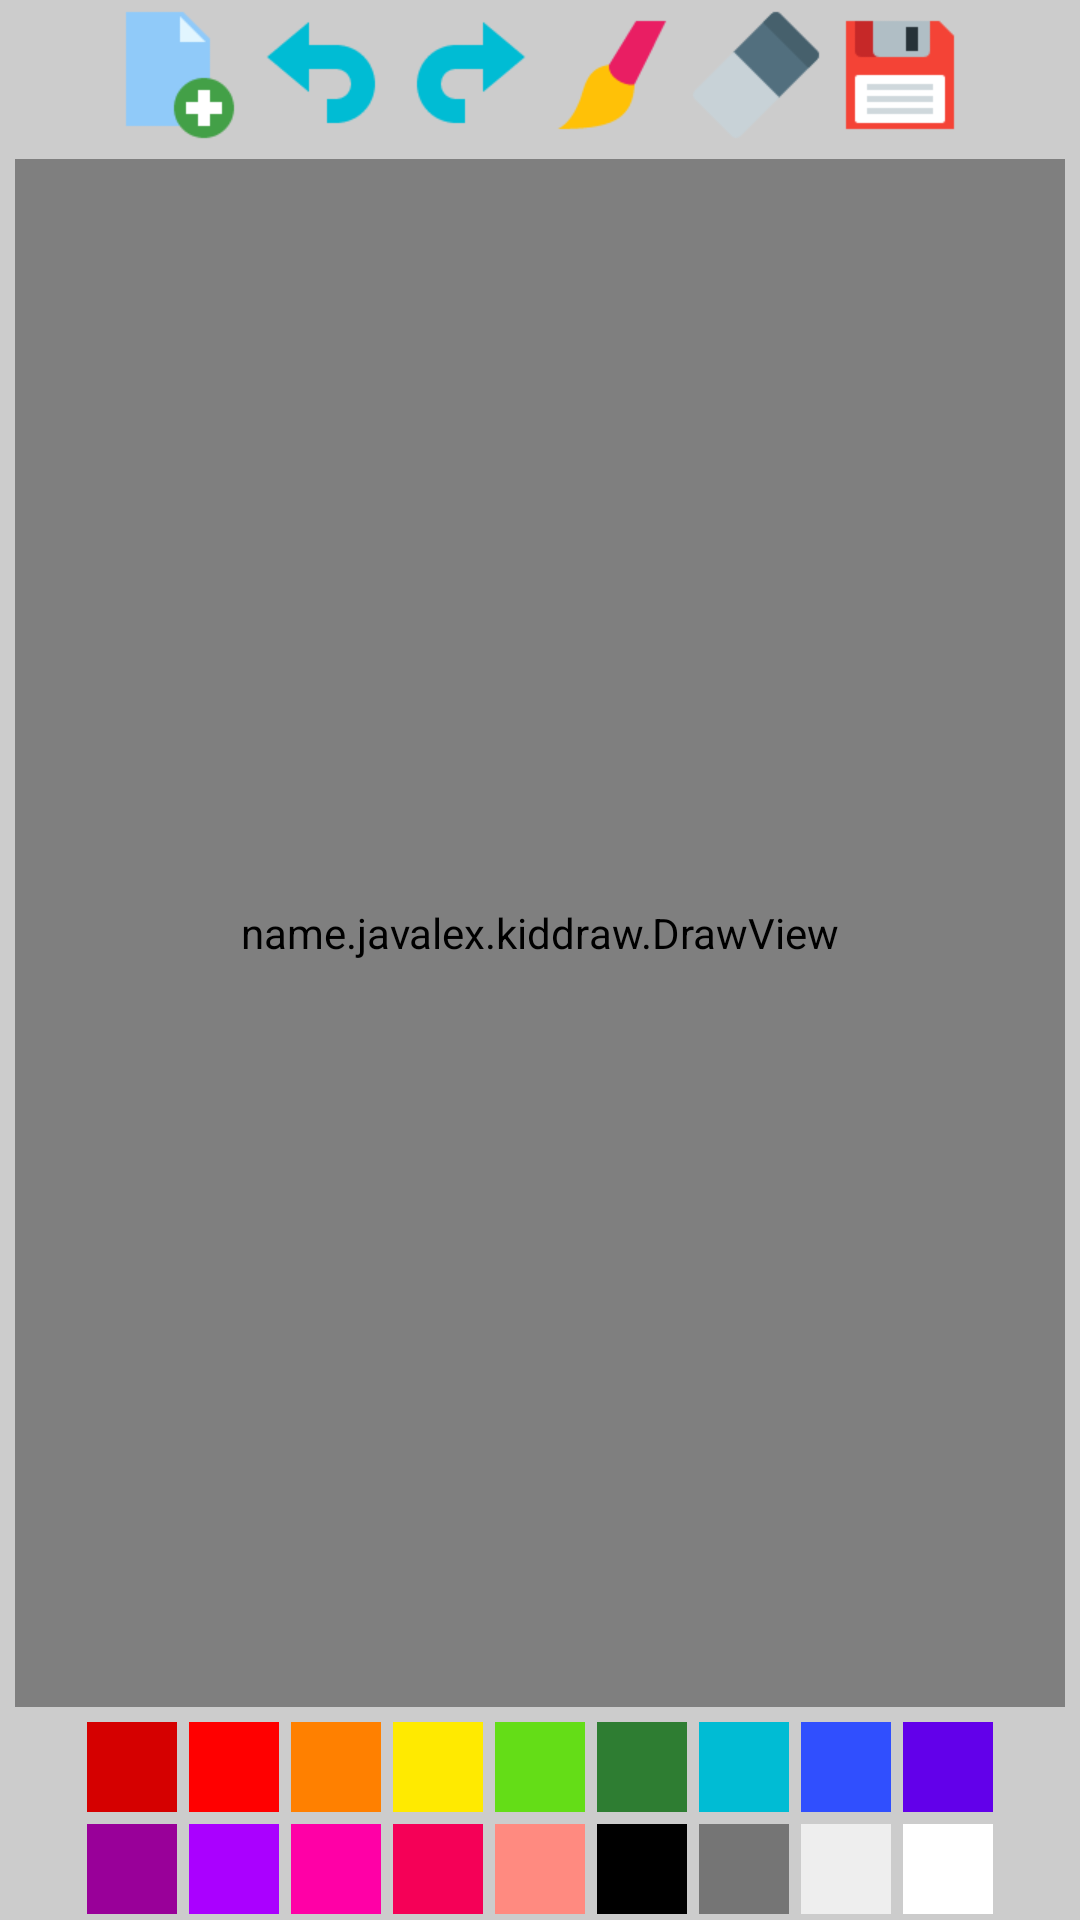

Where to tap for icons on this 1080w x 1920h app screen, as point (x, y):
Brush: point (612, 75)
Erase: point (776, 55)
redo: point (470, 73)
Save: point (900, 75)
undo: point (321, 73)
